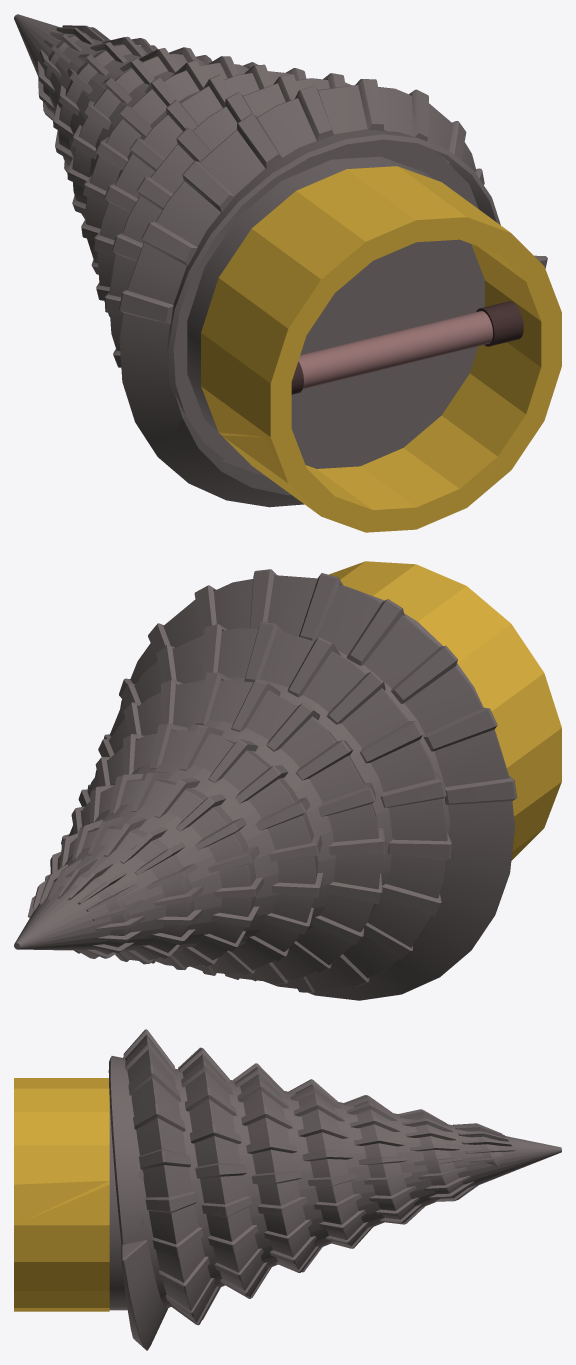
Rendered from Drill_Custom(Handled_Fix).fbx.
3 views of the same model, one above another, from view 1: azimuth 30°, elevation 25°; view 2: azimuth 150°, elevation 25°; view 3: azimuth 270°, elevation 25° (orthographic). The views are drawn at different scales.
Parts seen in each view (by area): view 1: model_1_Mesh1, Glove_Donut, Glove_Wall, Drill_Wall, Cylinder__1_, Cylinder__3_; view 2: model_1_Mesh1, Glove_Donut; view 3: model_1_Mesh1, Glove_Donut, Glove_Wall.
Part boxes in pixels (bbox=[...]): model_1_Mesh1: bbox=[14, 14, 547, 507]; Glove_Donut: bbox=[201, 166, 561, 532]; Glove_Wall: bbox=[187, 156, 484, 468]; Drill_Wall: bbox=[173, 130, 478, 477]; Cylinder__1_: bbox=[298, 311, 492, 388]; Cylinder__3_: bbox=[476, 301, 523, 346]; model_1_Mesh1: bbox=[14, 569, 517, 1000]; Glove_Donut: bbox=[329, 561, 561, 860]; model_1_Mesh1: bbox=[108, 1029, 561, 1350]; Glove_Donut: bbox=[14, 1078, 109, 1311]; Glove_Wall: bbox=[109, 1102, 127, 1310].
Size of the model in its own units: 646 by 633 by 1088.
